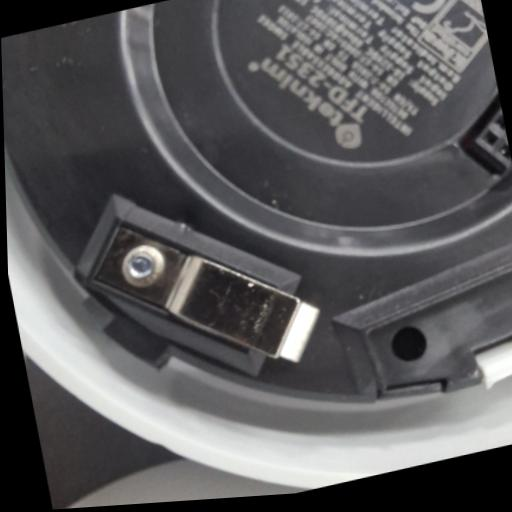yayli: (80, 180, 333, 407)
